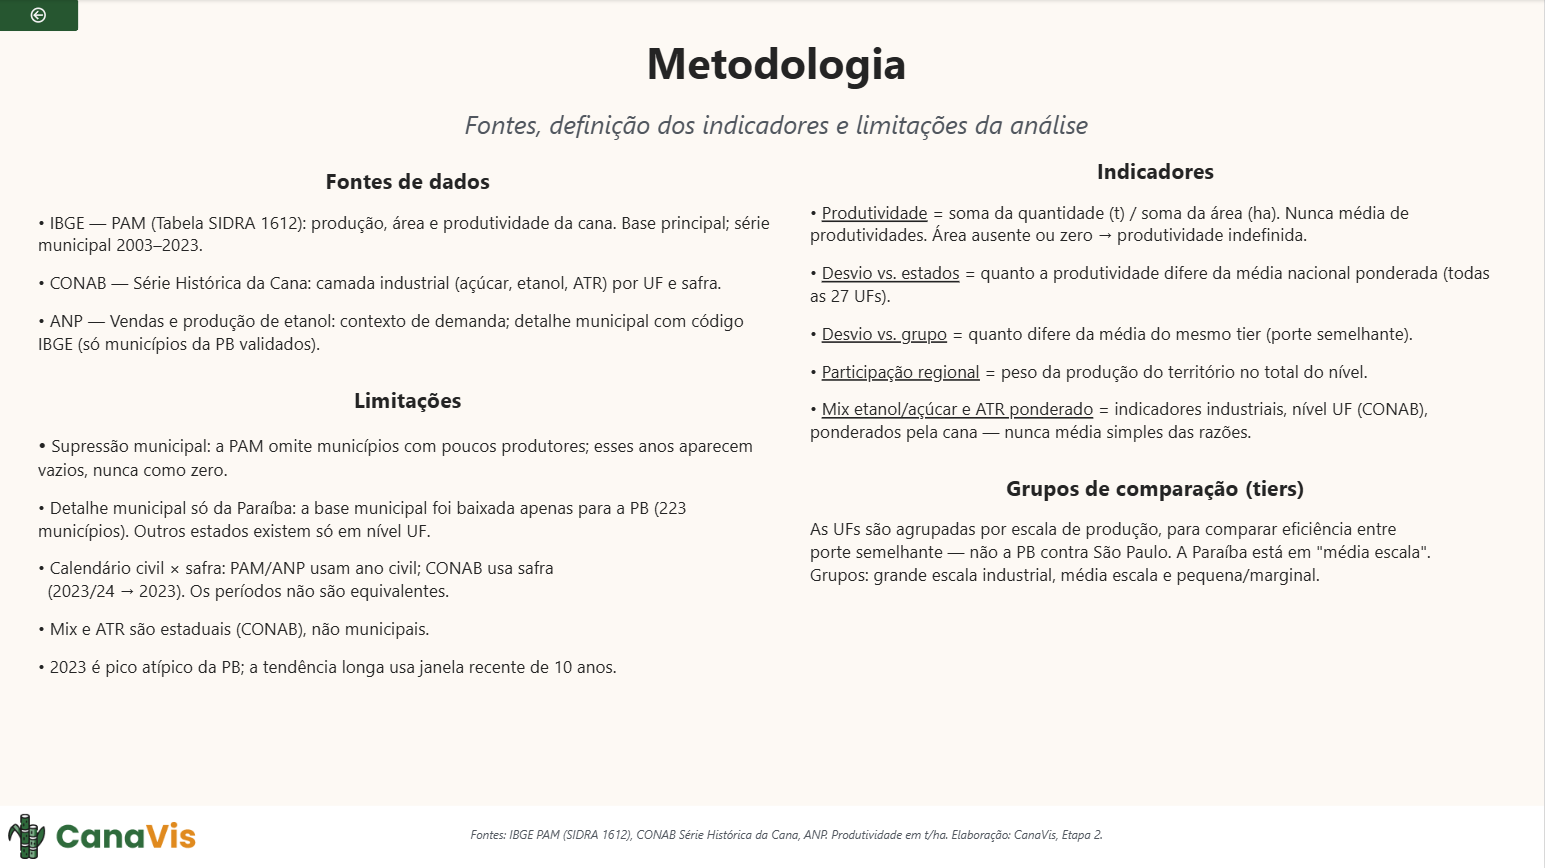

The page's visual inventory and layout, read from the dashboard file:
{"tool":"powerbi","page":{"name":"Metodologia","canvas":[1920,1080],"ordinal":3},"visuals":[{"type":"actionButton","box":[0,0,100,40],"z":0},{"type":"textbox","box":[149.6,40.8,1634.4,92.5],"z":1000},{"type":"textbox","box":[149.6,133.3,1634.4,62.5],"z":2000},{"type":"textbox","box":[49.6,207.2,917.7,767.4],"z":3000},{"type":"textbox","box":[1008.1,195.5,857.9,653.6],"z":4000},{"type":"textbox","box":[382.2,1027.1,1193.4,26.3],"z":5000}]}

Visuals, with their boxes in screenshot pixels (x1, y1, x2, y2), scaled from the page's 1920x1080 canvas onto the 1545x868 screenshot:
actionButton: [left=0, top=0, right=80, bottom=32]
textbox: [left=120, top=33, right=1436, bottom=107]
textbox: [left=120, top=107, right=1436, bottom=157]
textbox: [left=40, top=167, right=778, bottom=783]
textbox: [left=811, top=157, right=1502, bottom=682]
textbox: [left=308, top=825, right=1268, bottom=847]
